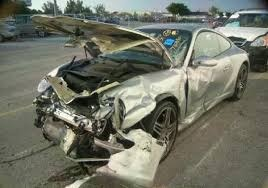Broken-glass: (170, 34, 194, 64)
Smashed: (34, 58, 218, 175)
